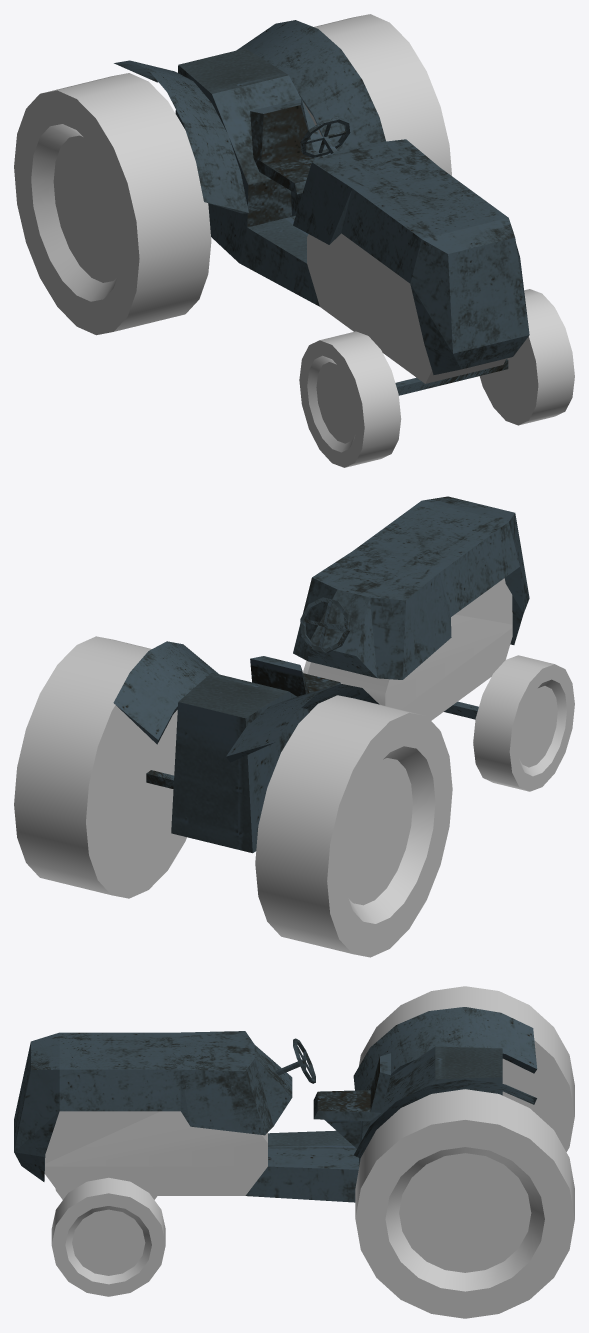
Rendered from Tractor_Mesh.fbx.
3 views of the same model, one above another, from view 1: azimuth 30°, elevation 25°; view 2: azimuth 150°, elevation 25°; view 3: azimuth 270°, elevation 25° (orthographic). The views are drawn at different scales.
Visible parts, largest first — view 1: Tractor_Mesh; view 2: Tractor_Mesh; view 3: Tractor_Mesh.
Boxes of the visible parts, x1,y1,x2,y2 form: Tractor_Mesh: (14, 14, 574, 467); Tractor_Mesh: (14, 496, 574, 957); Tractor_Mesh: (14, 986, 574, 1318).
Size of the model in its own units: 344 by 253 by 610.
